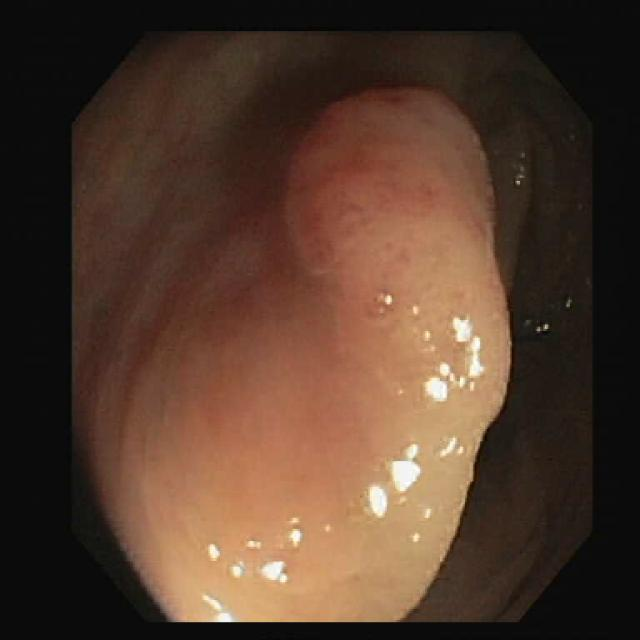tumor: (88, 91, 508, 636)
